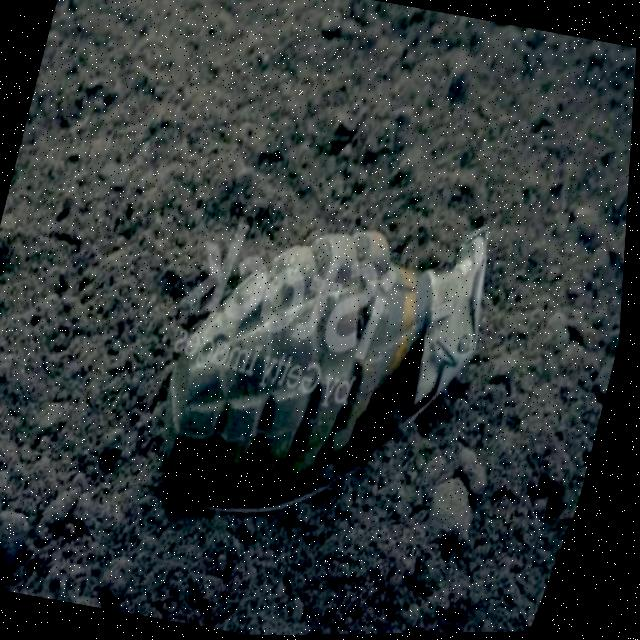grenade: (117, 131, 539, 586)
